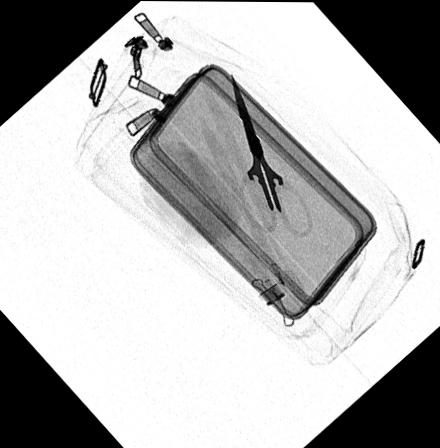Scissors: (230, 72, 313, 239)
